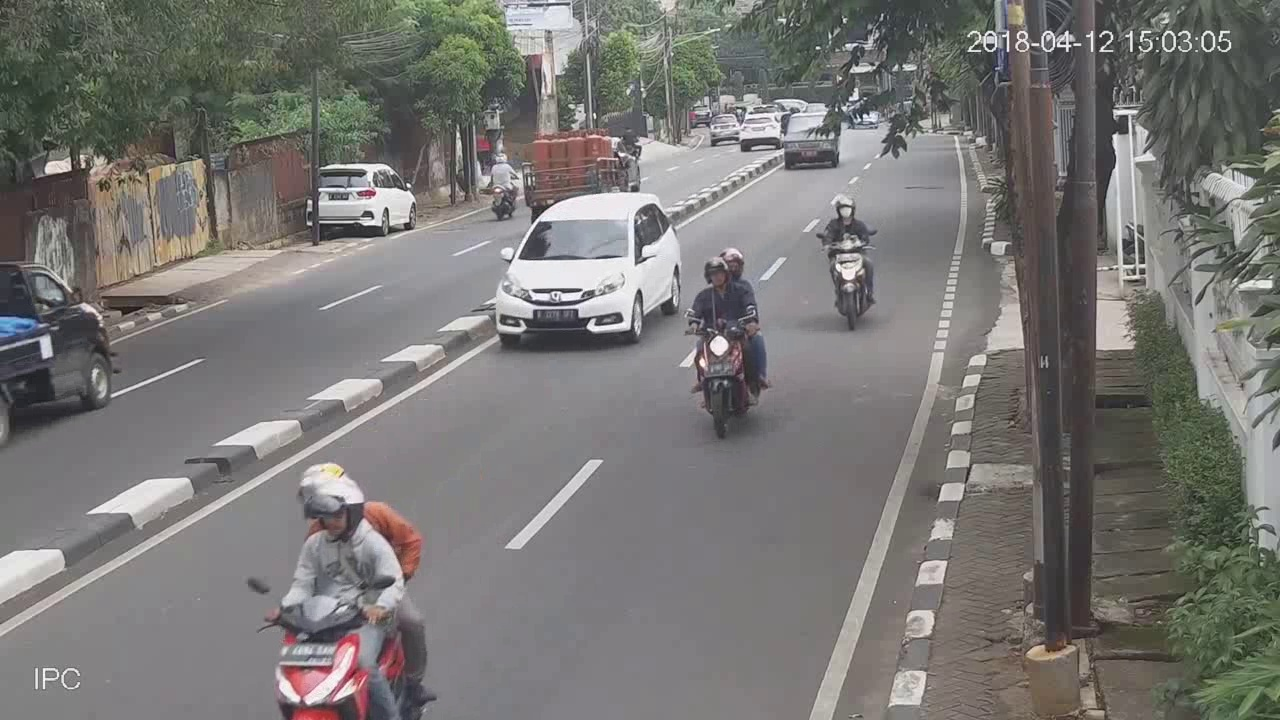car: (493, 188, 681, 347), (307, 157, 422, 241), (784, 109, 839, 172), (740, 111, 782, 153), (709, 112, 738, 148)
motorcycle: (251, 461, 437, 720), (680, 246, 777, 441), (811, 187, 887, 337), (481, 145, 519, 226)
truck: (1, 263, 123, 442)
